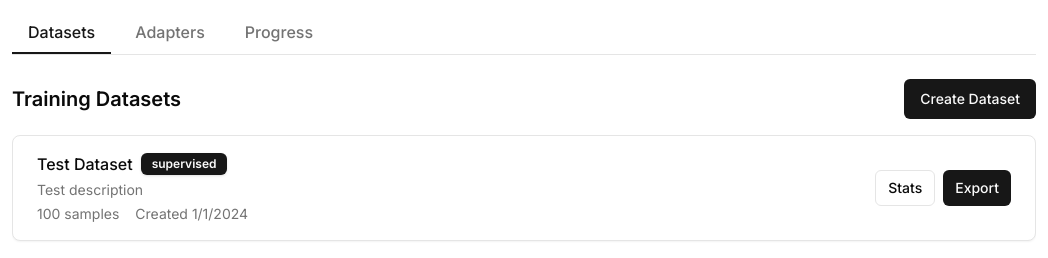
Scenario: TrainingDashboard › switches to adapters tab
The width and height of the screenshot is (1048, 258).
Click the button "Adapters".
click(170, 33)  # box [119, 12, 221, 54]
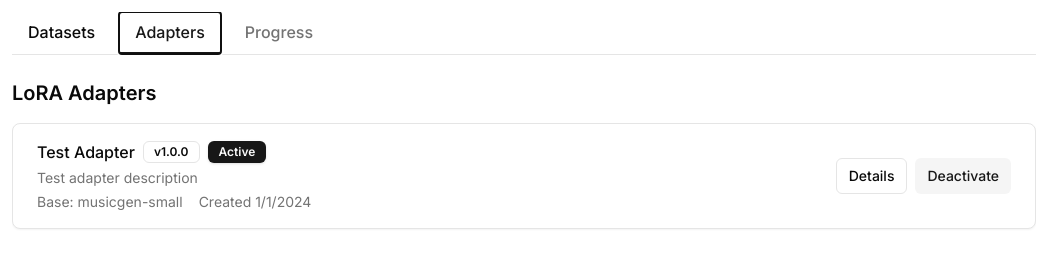
Result: the heading "LoRA Adapters" is shown at [12, 79, 156, 107]
Result: the heading "Test Adapter" is shown at [37, 140, 135, 164]
